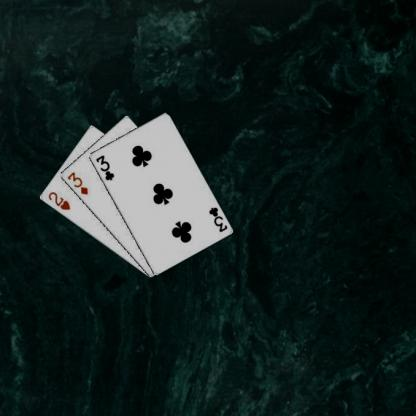2H: (46, 189, 72, 212)
3C: (93, 152, 115, 182), (206, 204, 228, 233)
3D: (64, 169, 89, 196)
